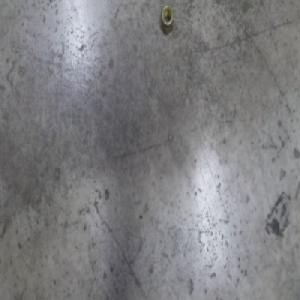Nut: (160, 3, 175, 35)
